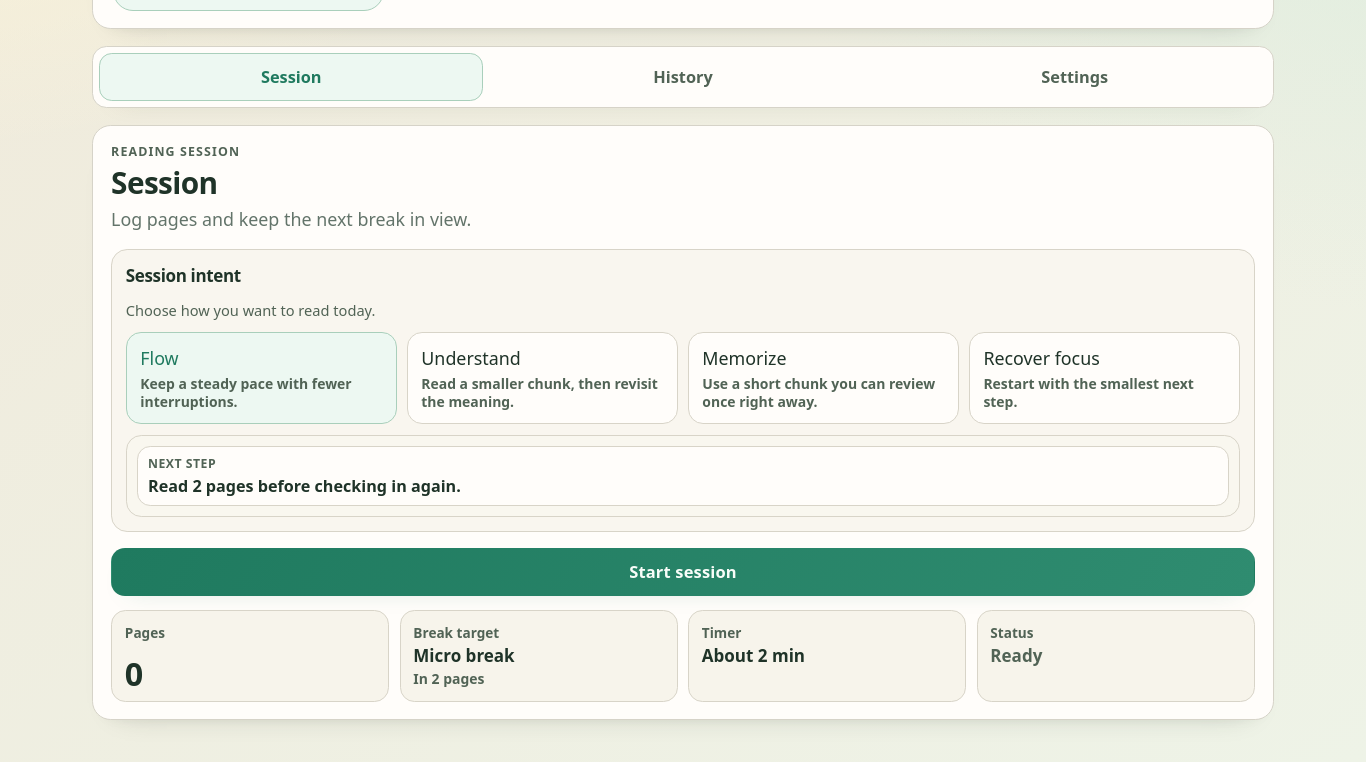
Scenario: Quran Rest Coach app › replaces the start action once a session is already running
(page scrolled)
Click the button "Start session": x=683, y=572 [111,548,1255,596]
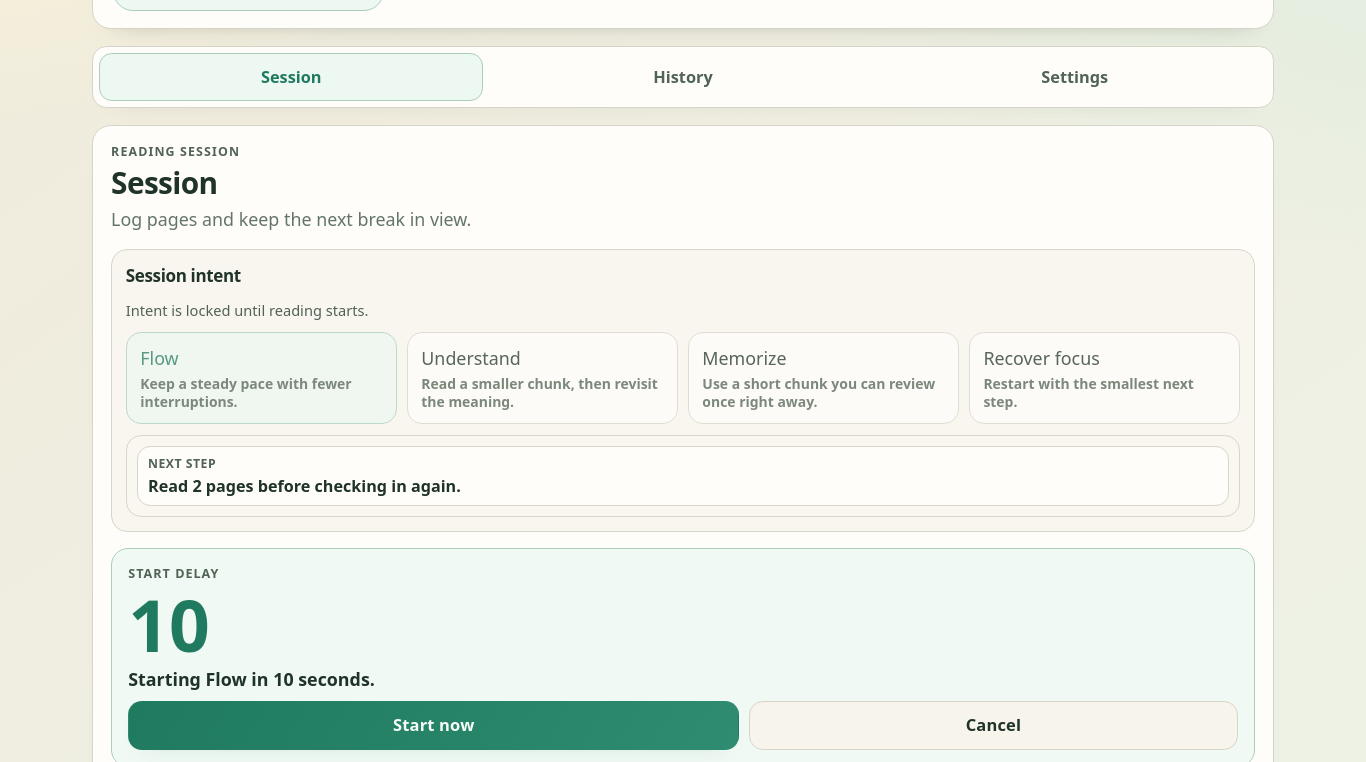
Expected: the button "Start session" is gone
Expected: the button "Start now" is shown, [128,701,739,750]
Expected: the button "Cancel" is shown, [749,701,1238,750]
